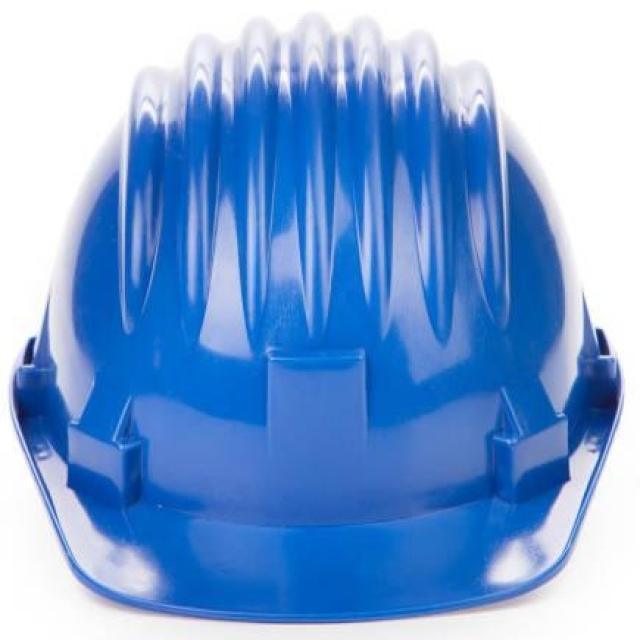blue helmet: (6, 9, 629, 631)
